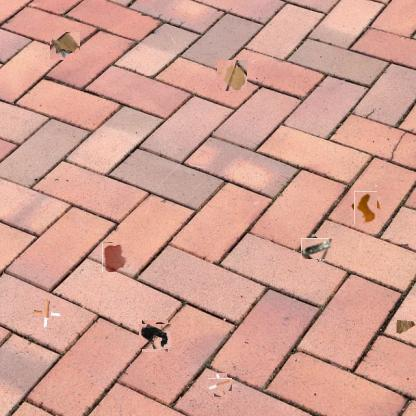dirty: (50, 32, 80, 60), (352, 194, 380, 222), (141, 322, 169, 350), (304, 236, 330, 262), (36, 303, 56, 323), (394, 320, 416, 336), (211, 376, 230, 394)
liquid: (217, 60, 247, 91), (102, 242, 127, 272)
